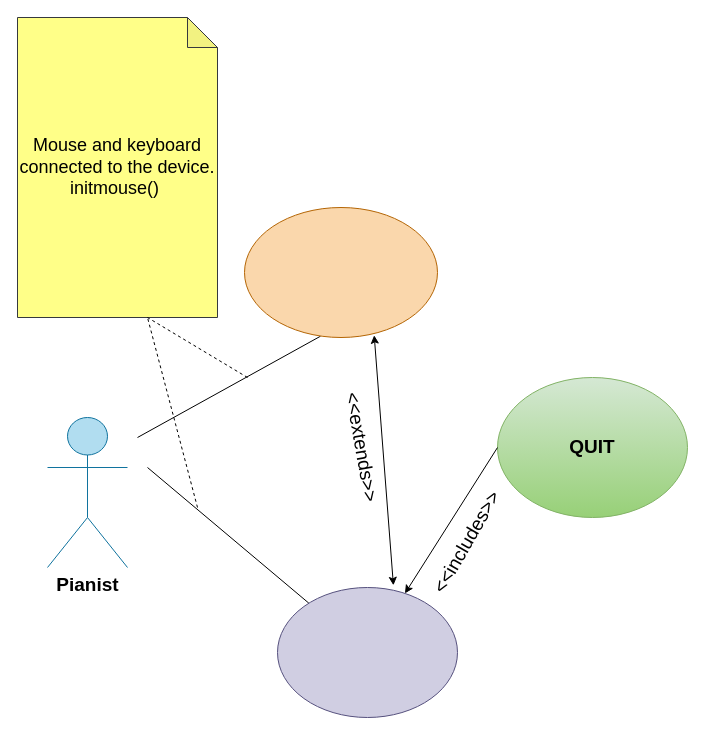
The diagram is 705 pixels wide and 735 high, and some of its shapes have lost their labels. The centre of each missing label's shape, as x and y in pixels:
"Increase or Decrease Frequency" goes at pixel 341 272.
"Play keys" goes at pixel 367 652.
